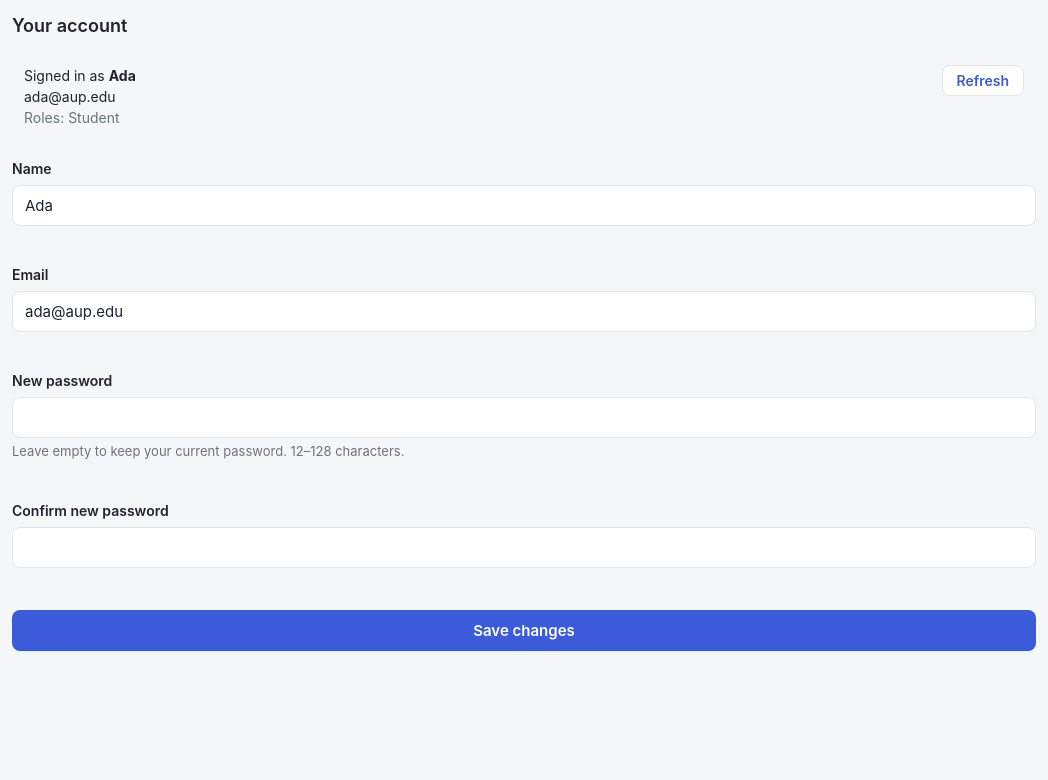
Test case: Saving changes (QB-47) › sends only the changed fields and reports the saved profile
This screenshot has width=1048, height=780.
Replace the text in the field labelled "Email" with " ada@example.com ": [524, 312] box x1=12 y1=291 x2=1036 y2=332
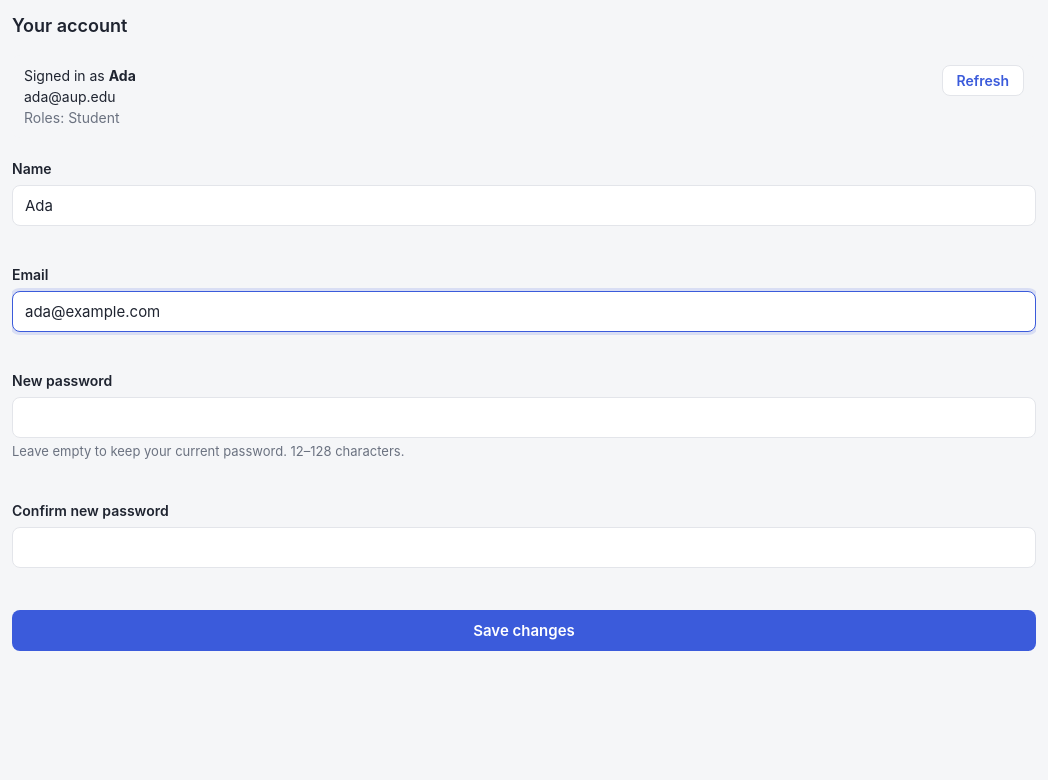
Click the button "Save changes": [524, 630] box x1=12 y1=610 x2=1036 y2=650
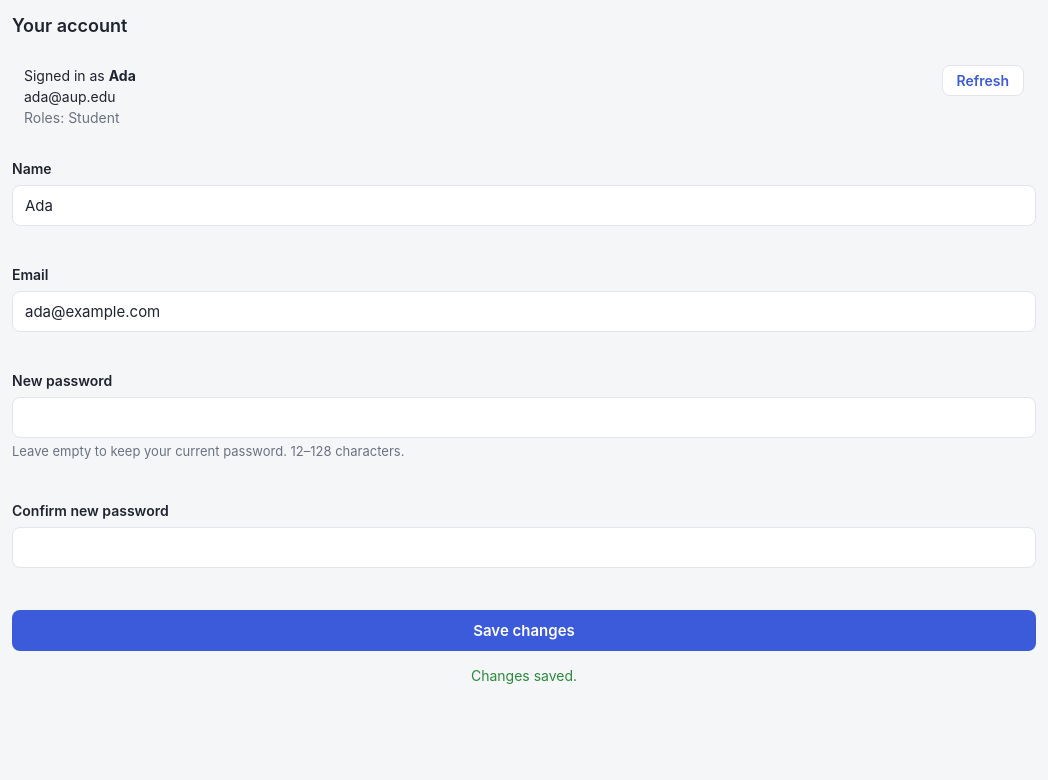
Expected: the text "Changes saved." is shown, x1=471 y1=666 x2=577 y2=684
